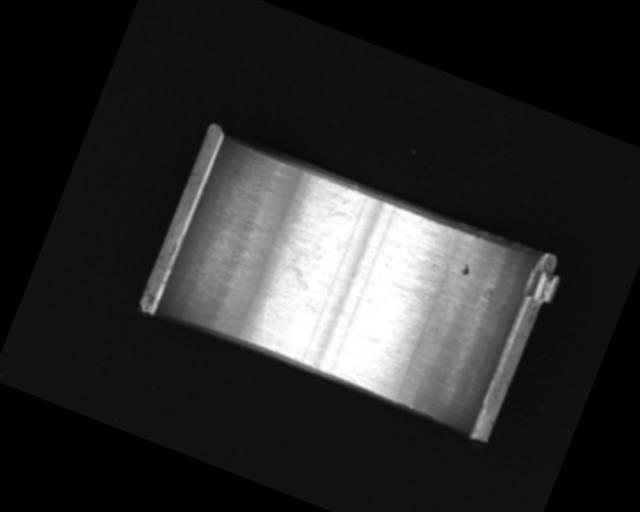blot: (263, 229, 327, 293)
bruise: (458, 260, 473, 278)
nick: (251, 299, 280, 343)
